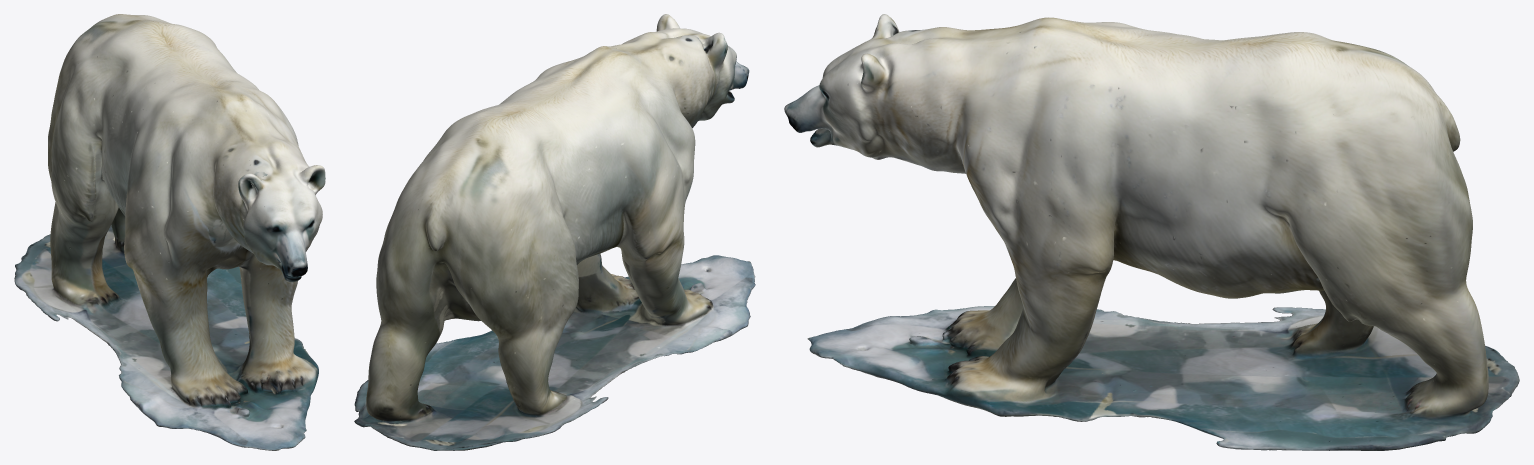
File: asset.glb
3 renders of one model, left to right at view 1: azimuth 30°, elevation 25°; view 2: azimuth 150°, elevation 25°; view 3: azimuth 270°, elevation 25°, orthographic. The views are drawn at different scales.
Size of the model in its own units: 0.9219 by 1.07 by 2.
Materials: 1 (1 with a texture image).
